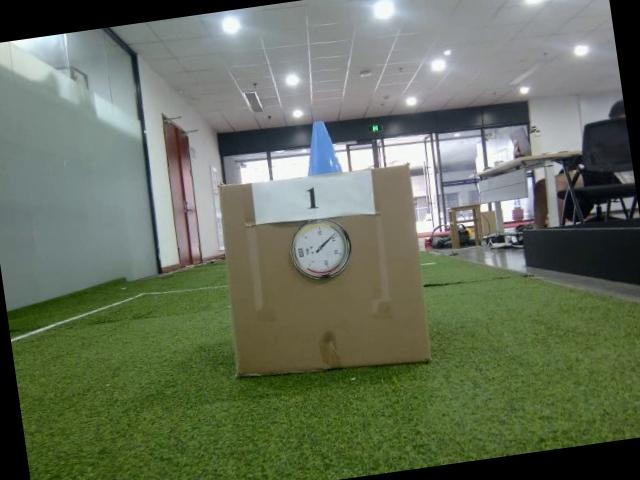1: (306, 186, 319, 212)
Dashboard: (290, 216, 356, 284)
blue_barrel: (301, 116, 345, 178)
ssi: (298, 246, 306, 260)
